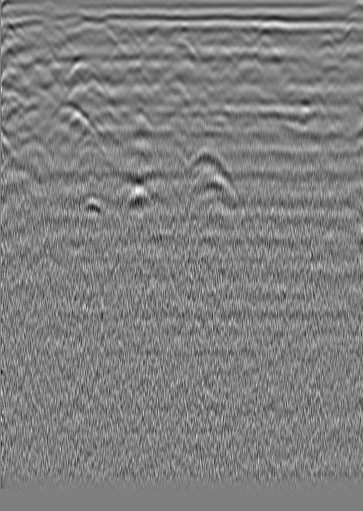가스: (75, 192, 106, 222)
상수: (316, 29, 336, 49)
오수: (35, 22, 55, 42)
우수: (171, 33, 191, 53)
